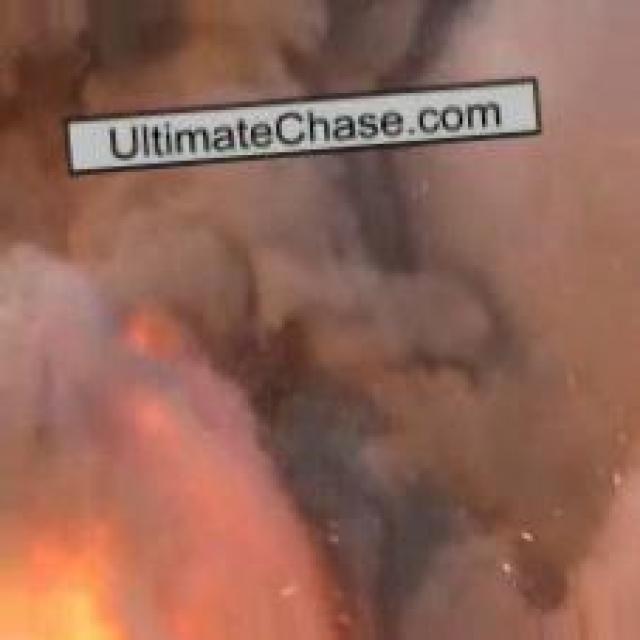smoke: (48, 179, 620, 617)
